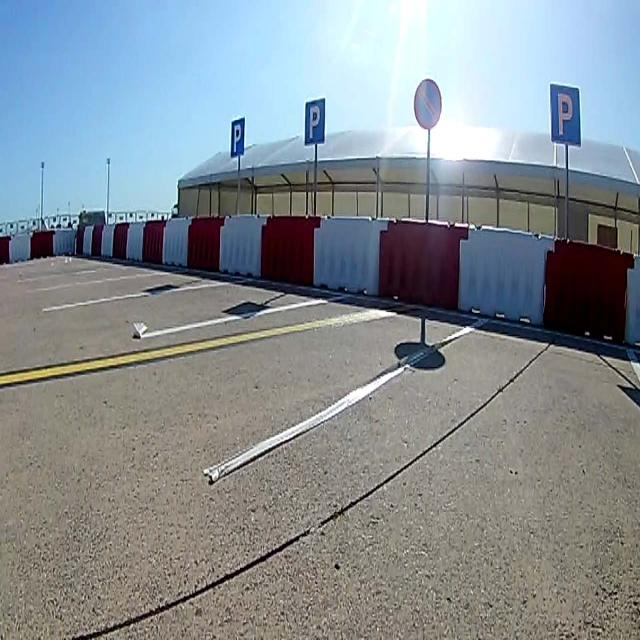park: (551, 83, 581, 145), (306, 98, 325, 144), (230, 118, 243, 155)
parkyasak: (415, 81, 443, 126)
